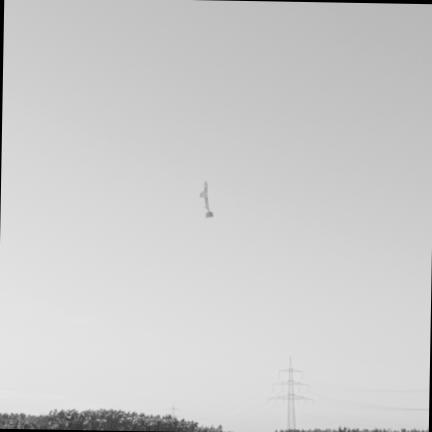Shahed: (199, 182, 212, 217)
